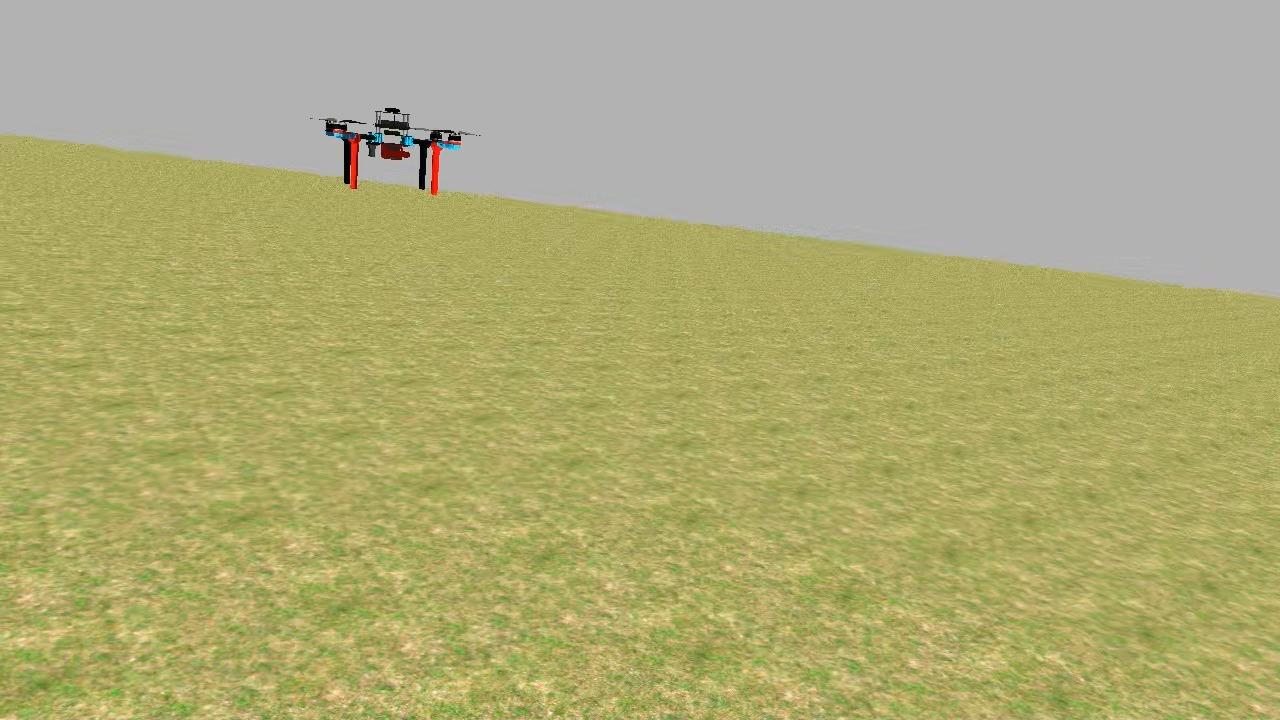UAV: (316, 102, 470, 200)
